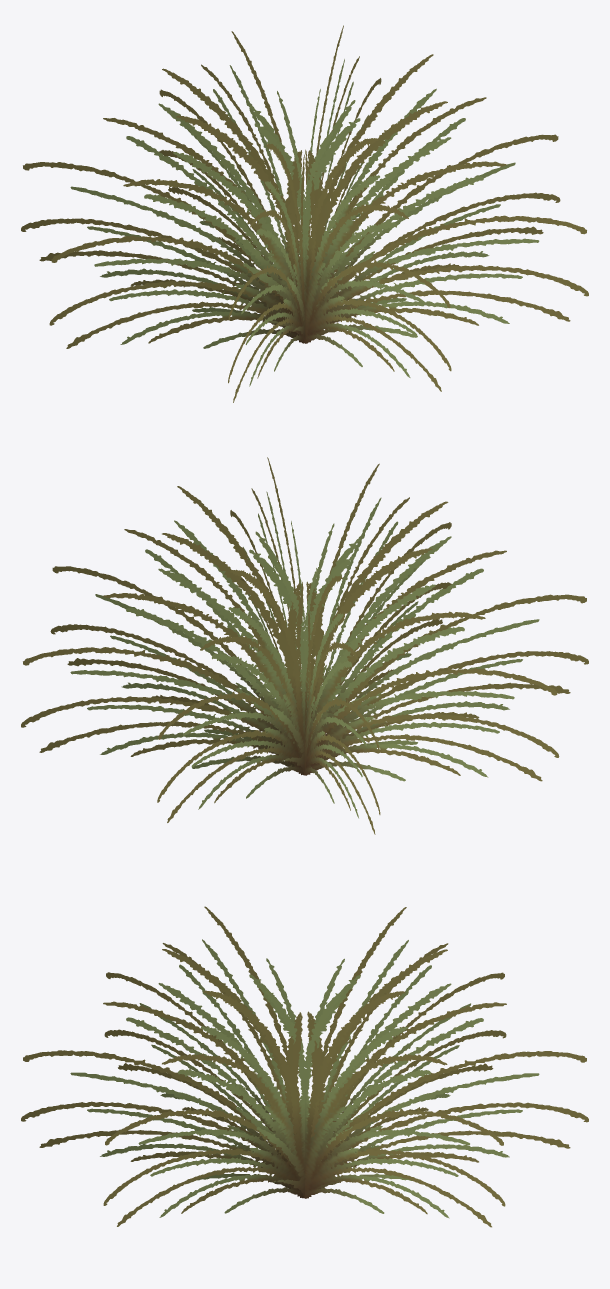
Rendered from painted-weed-044.glb.
3 renders of one model, top to bottom at view 1: azimuth 30°, elevation 25°; view 2: azimuth 150°, elevation 25°; view 3: azimuth 270°, elevation 25°, orthographic. The views are drawn at different scales.
Size of the model in its own units: 15.66 by 7.88 by 15.66.
1 material, 1 textured.
